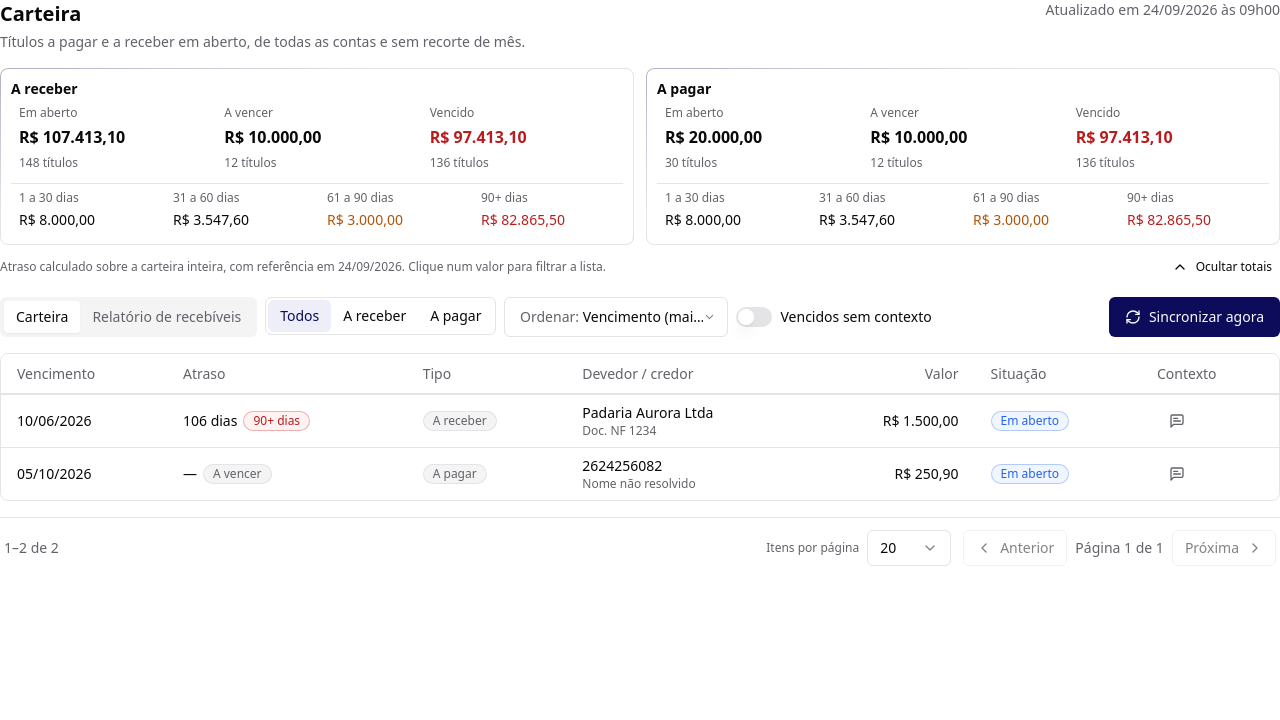
Scenario: ClientTitlesScreen — contexto do título (Sprint 15 / R1 · R2) › abre a gaveta de contexto a partir da linha, com o histórico e o formulário para quem PODE registrar
Click the button named "Contexto do título 4010" at (1177, 420), box x1=1157 y1=404 x2=1197 y2=436
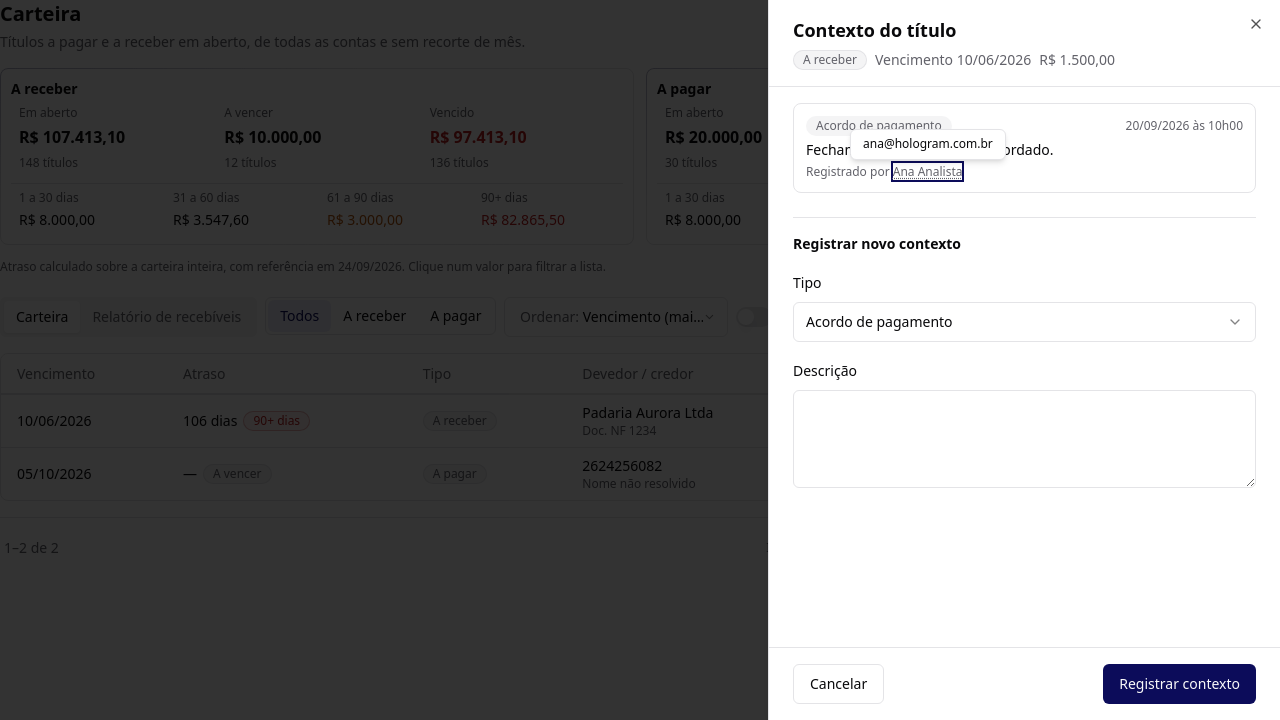
Result: the heading "Contexto do título" is shown at x1=793 y1=18 x2=956 y2=42
Result: the text "Fechamento quadrimestral acordado." is shown at x1=806 y1=140 x2=1054 y2=159
Result: the text "Acordo de pagamento" in the row of "20/09/2026 às 10h00" is shown at x1=816 y1=117 x2=942 y2=134
